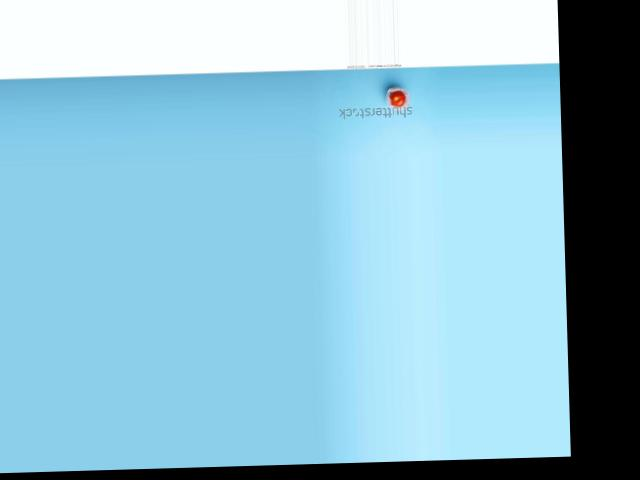tomato: (389, 90, 404, 106)
